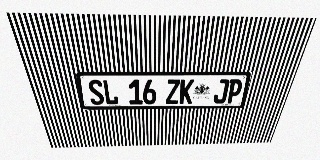1: (128, 79, 143, 104)
6: (142, 79, 156, 104)
J: (213, 79, 230, 103)
K: (179, 79, 194, 104)
L: (102, 80, 119, 105)
P: (226, 79, 244, 103)
S: (87, 80, 105, 105)
Z: (166, 79, 180, 104)
